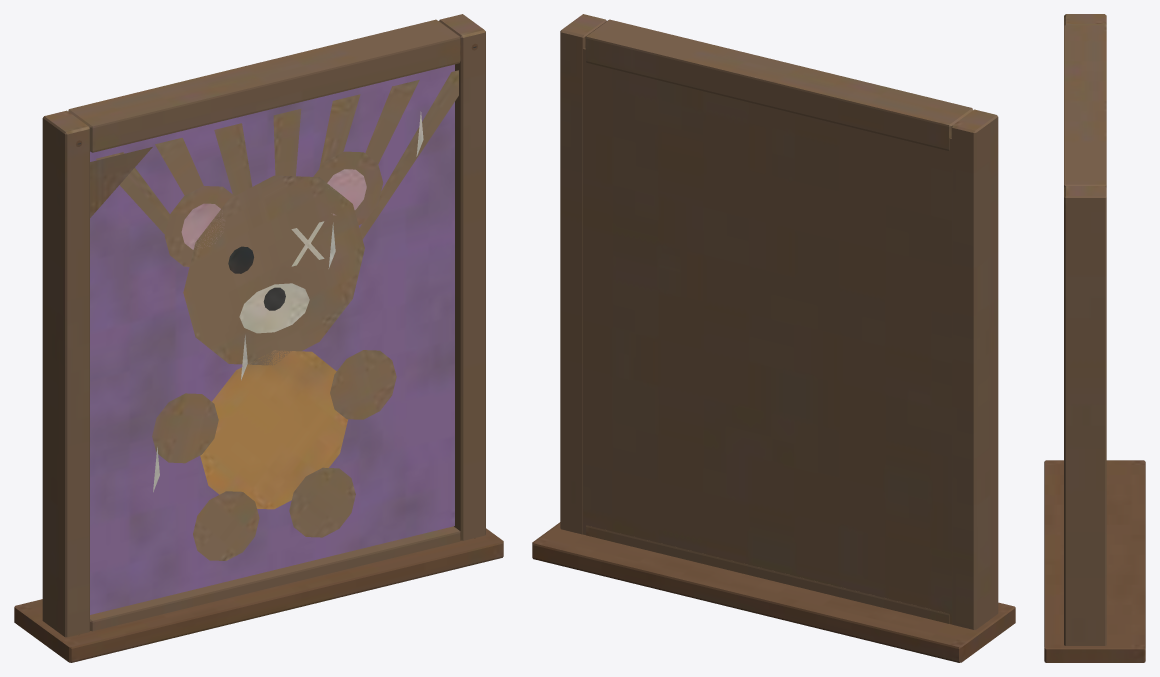
Rendered from Q09_cinema_poster_frame_v2.glb.
The picture shows the model from 3 angles, left to right: view 1: azimuth 30°, elevation 25°; view 2: azimuth 150°, elevation 25°; view 3: azimuth 270°, elevation 25°; orthographic projection. The views are drawn at different scales.
Parts seen in each view (by area): view 1: Solid frame backing; view 2: Solid frame backing; view 3: Solid frame backing.
Boxes of the visible parts, <box> form: Solid frame backing: <box>14,14,503,662</box>; Solid frame backing: <box>532,14,1015,662</box>; Solid frame backing: <box>1044,14,1145,662</box>.
Size of the model in its own units: 0.8736 by 1 by 0.1978.
Materials: 9 (9 with a texture image).
